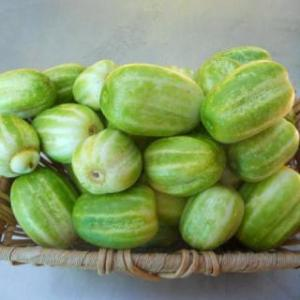cucumber: (200, 57, 296, 145), (98, 64, 209, 138), (140, 137, 230, 197)
